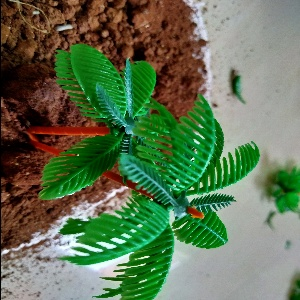plant: (82, 99, 242, 295), (39, 47, 167, 205)
